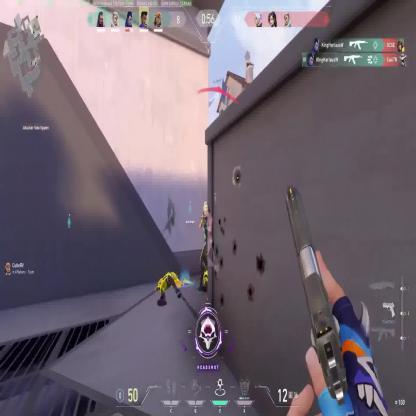enemy: (196, 200, 218, 292)
enemy_head: (202, 202, 210, 217)
